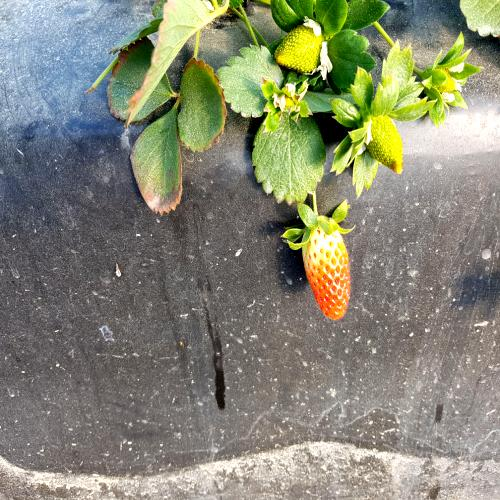partially-ripe: (298, 210, 358, 330)
